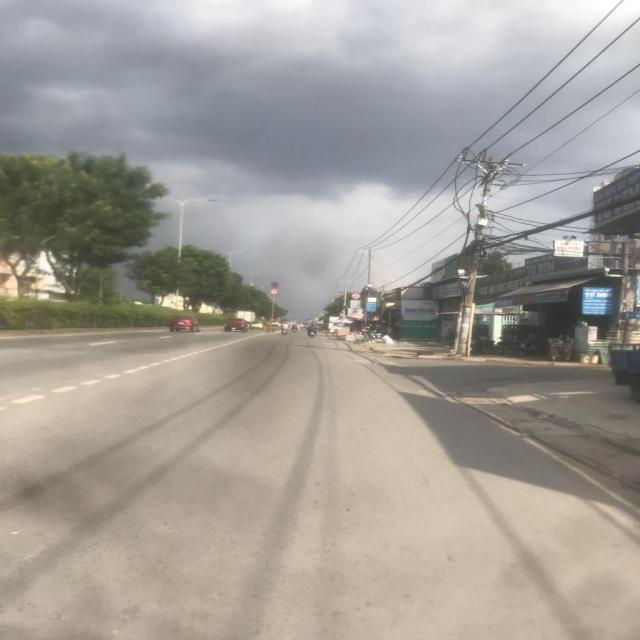cam_dung_xe_va_do_xe: (270, 282, 280, 288)
cam_o_to_tai_va_xe_khach: (351, 292, 361, 300)
cam_xe_2_banh_va_xe_3_banh_co_dong_co: (269, 289, 278, 295)
khac: (347, 308, 363, 317), (350, 300, 360, 308)
